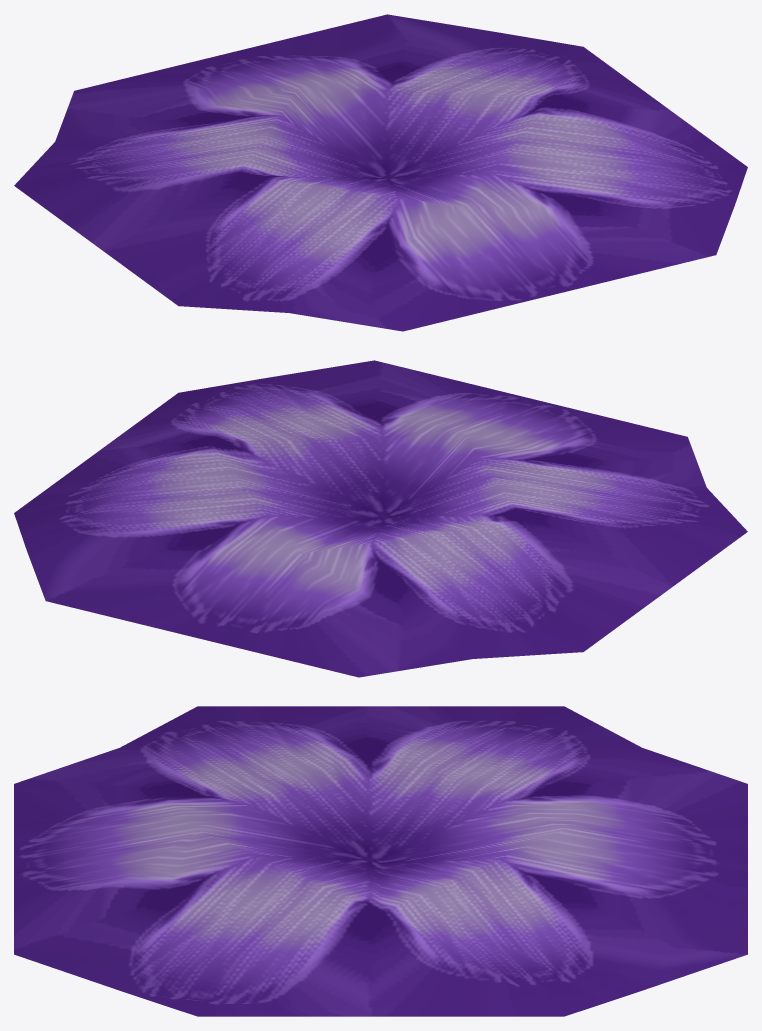
The model's file is Flower07_Art.fbx.
The picture shows the model from 3 angles, top to bottom: view 1: azimuth 30°, elevation 25°; view 2: azimuth 150°, elevation 25°; view 3: azimuth 270°, elevation 25°; orthographic projection. The views are drawn at different scales.
Visible parts, largest first — view 1: Flower07_Art; view 2: Flower07_Art; view 3: Flower07_Art.
Part boxes in pixels (x1,y1,x2,y2): Flower07_Art: [14, 14, 747, 331]; Flower07_Art: [14, 360, 747, 677]; Flower07_Art: [14, 706, 747, 1016].
Size of the model in its own units: 0.6029 by 0.0375 by 0.6029.
